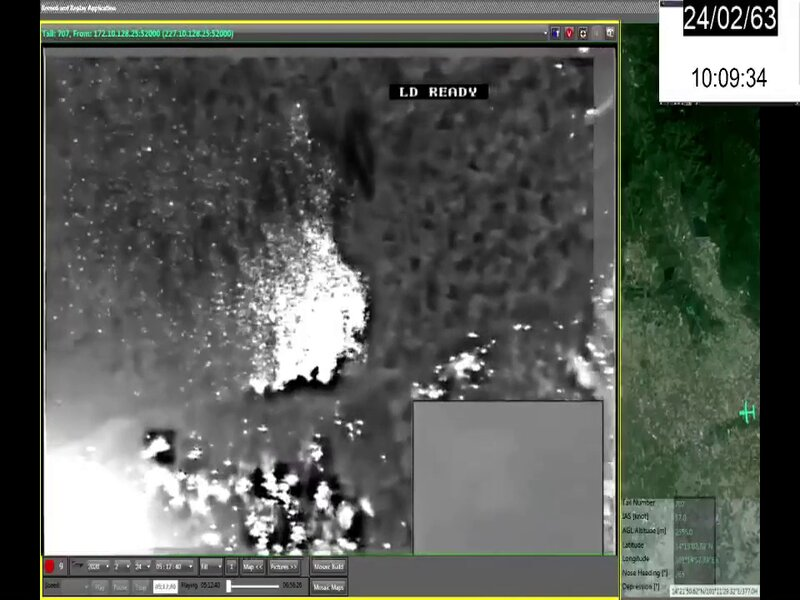Fire: (245, 222, 369, 400)
